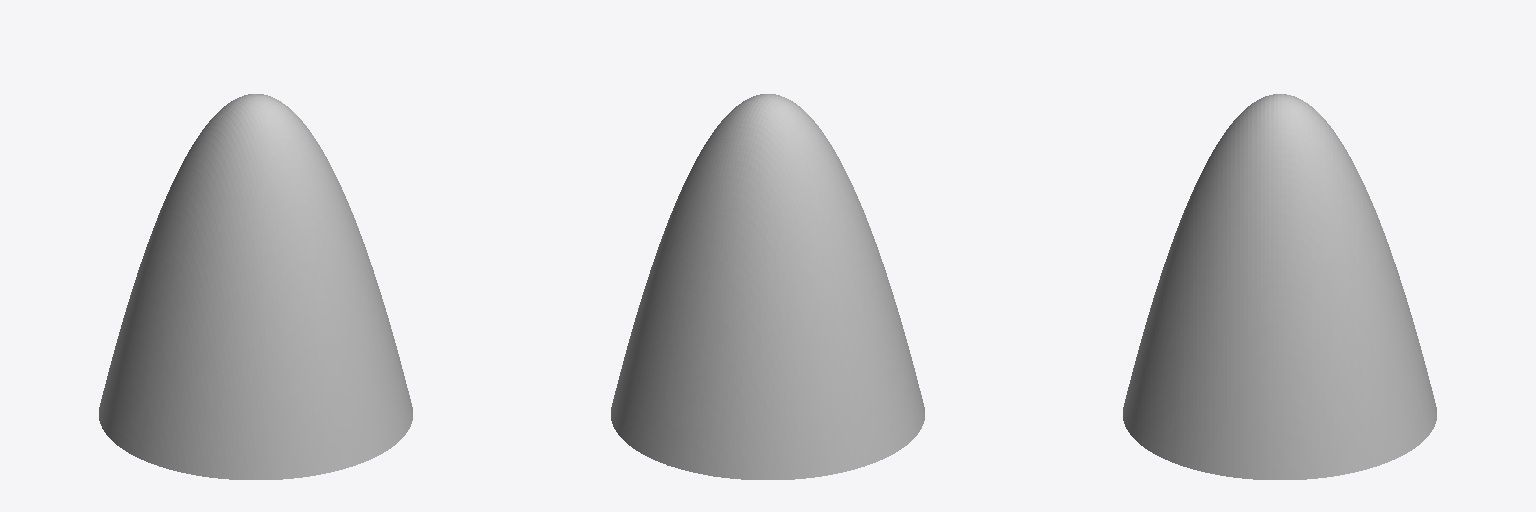
Rendered from paraboloid_r_10cm_h_11.11cm_f_2.25cm.obj.
The picture shows the model from 3 angles: view 1: azimuth 30°, elevation 25°; view 2: azimuth 150°, elevation 25°; view 3: azimuth 270°, elevation 25°; orthographic projection.
Visible parts, largest first — view 1: Z_Function.002; view 2: Z_Function.002; view 3: Z_Function.002.
Part boxes in pixels (bbox=[...]): Z_Function.002: bbox=[99, 94, 412, 479]; Z_Function.002: bbox=[611, 94, 924, 479]; Z_Function.002: bbox=[1123, 94, 1436, 479].
Bounding box in the file's own units: 0.099 × 0.1102 × 0.099.